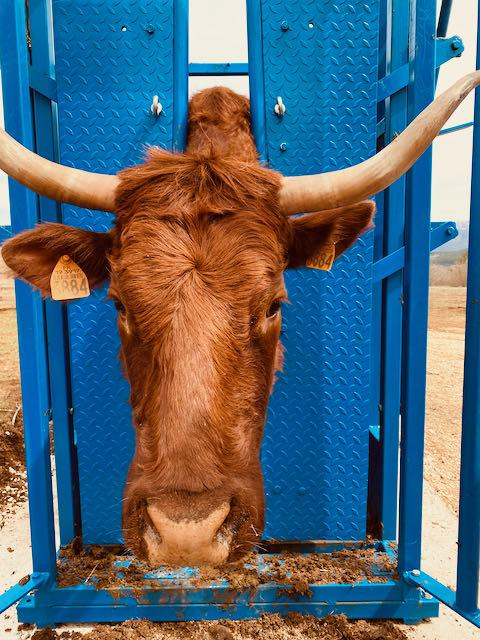muzzles: (114, 490, 266, 569)
